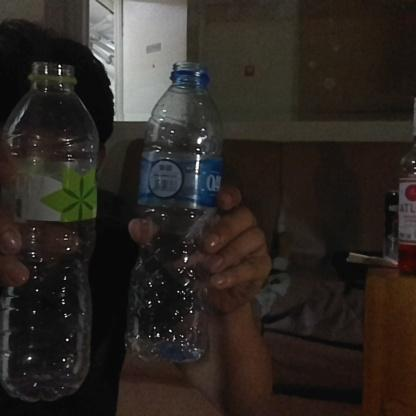plastic_bottles: (6, 62, 92, 400), (135, 58, 213, 364)
